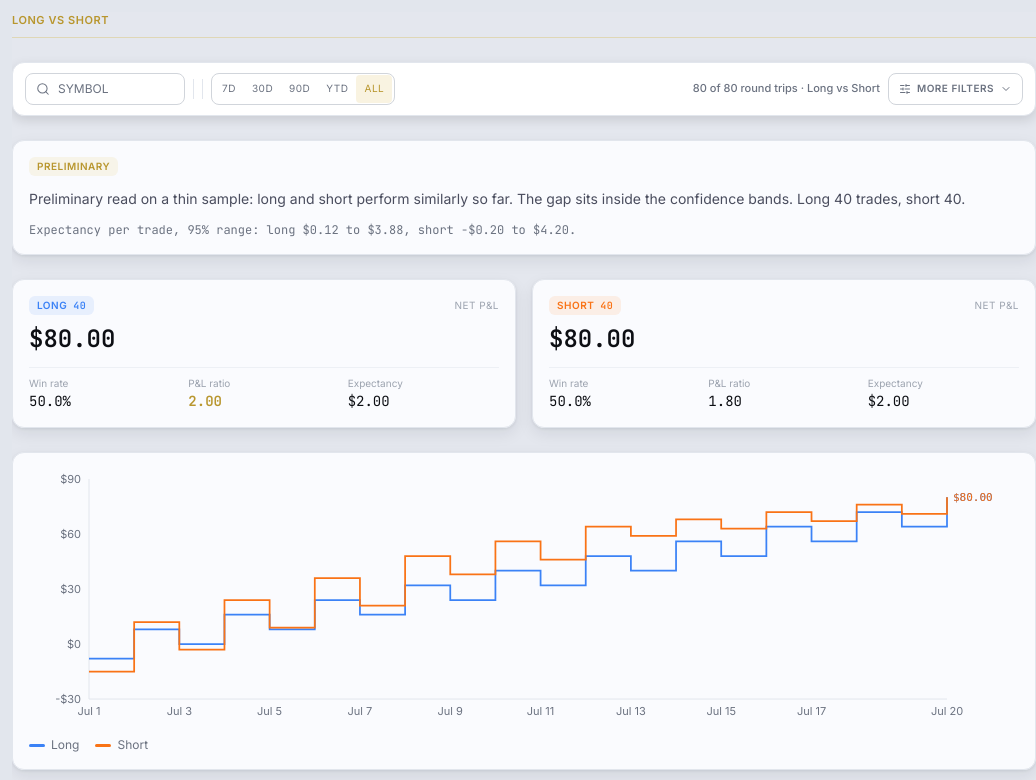
Test case: LS10 beat-298: the filter bar › G36 the earned read follows the filter
The image size is (1036, 780).
Click the button "More filters": (955, 88) [888, 72, 1023, 104]
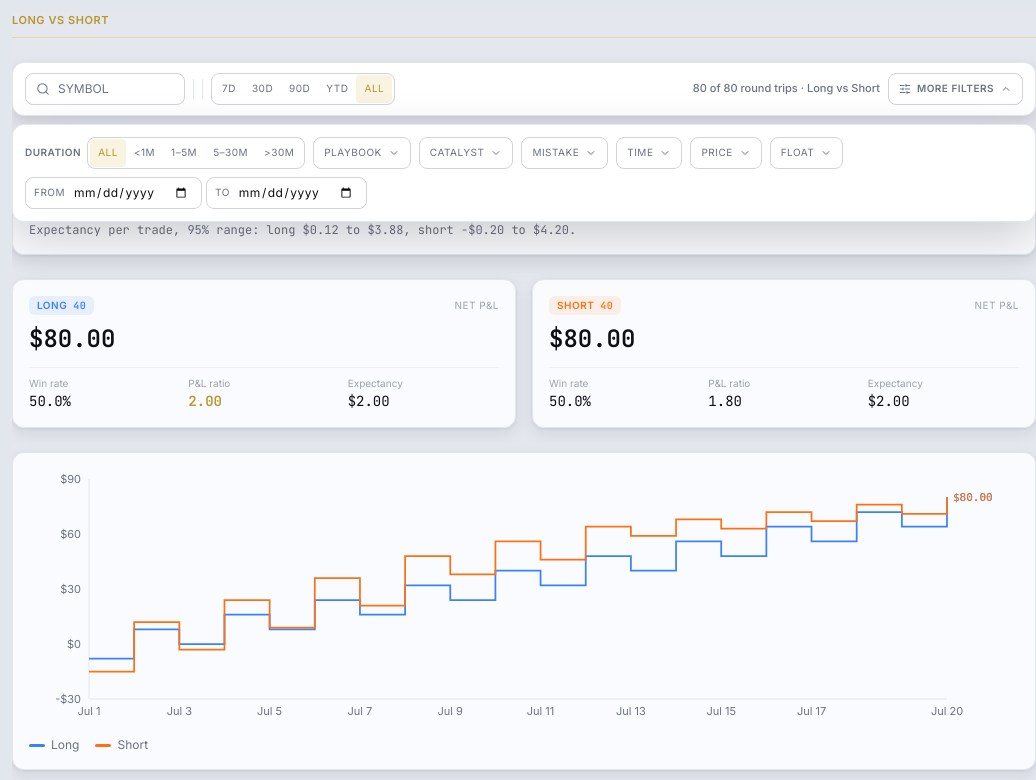
Click the button "Playbook": (362, 152) [313, 136, 411, 168]
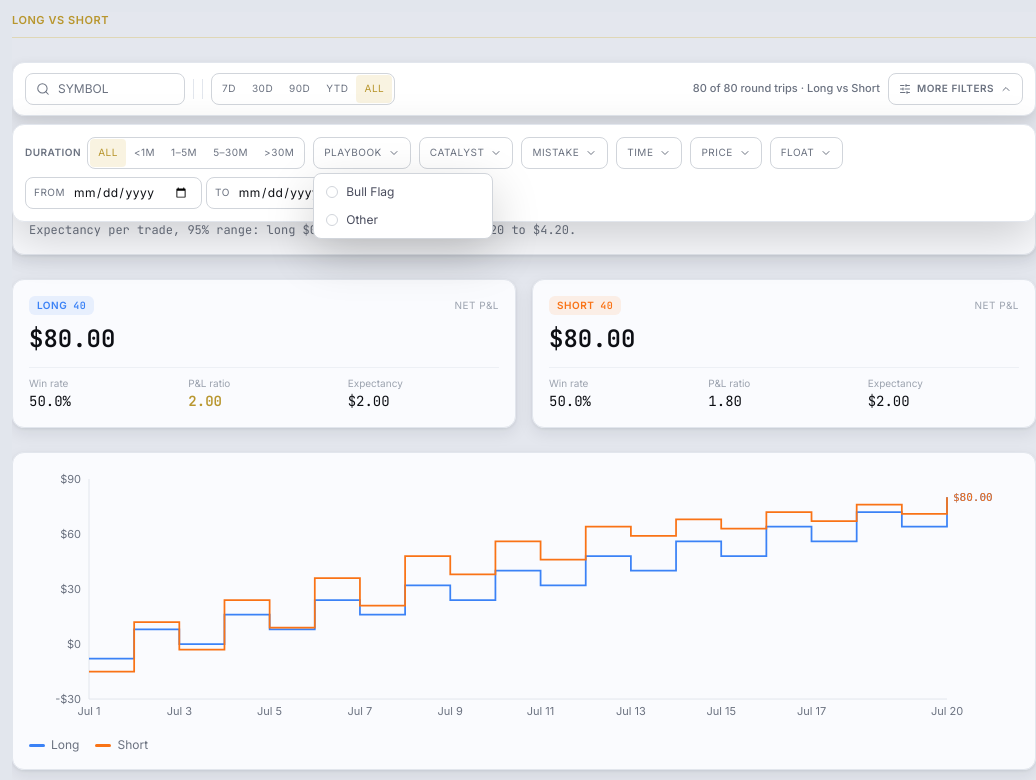
Click the button "Bull Flag": (403, 192) [318, 178, 488, 206]
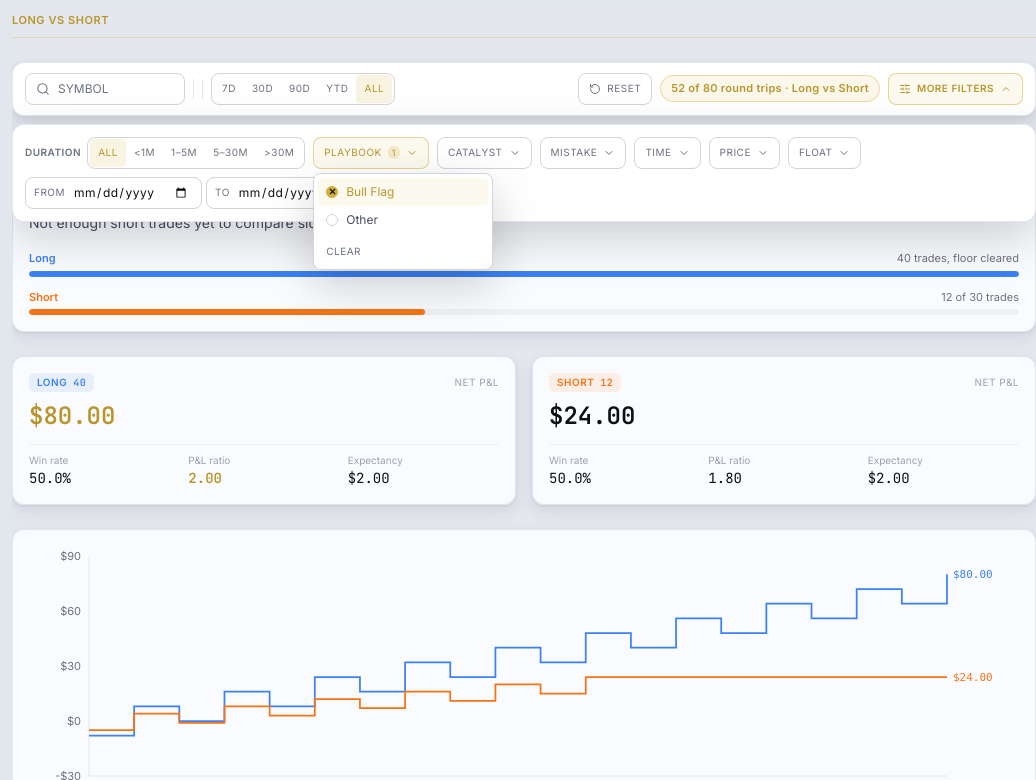
expect the element that starts with "Not enough data yet" is shown: met, box [37, 160, 165, 172]
expect the element that starts with "Not enough data yet" shows "12 of 30": met, box [29, 214, 397, 230]
